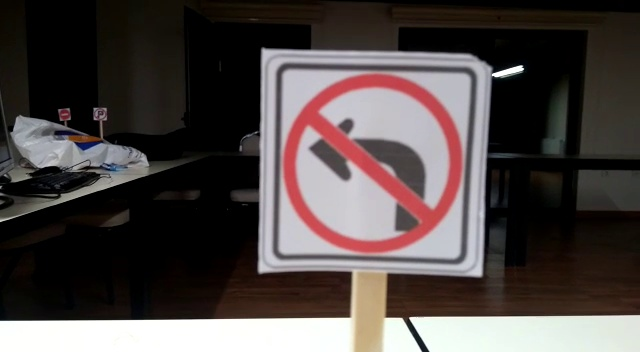sola_donulmez: (265, 55, 486, 266)
